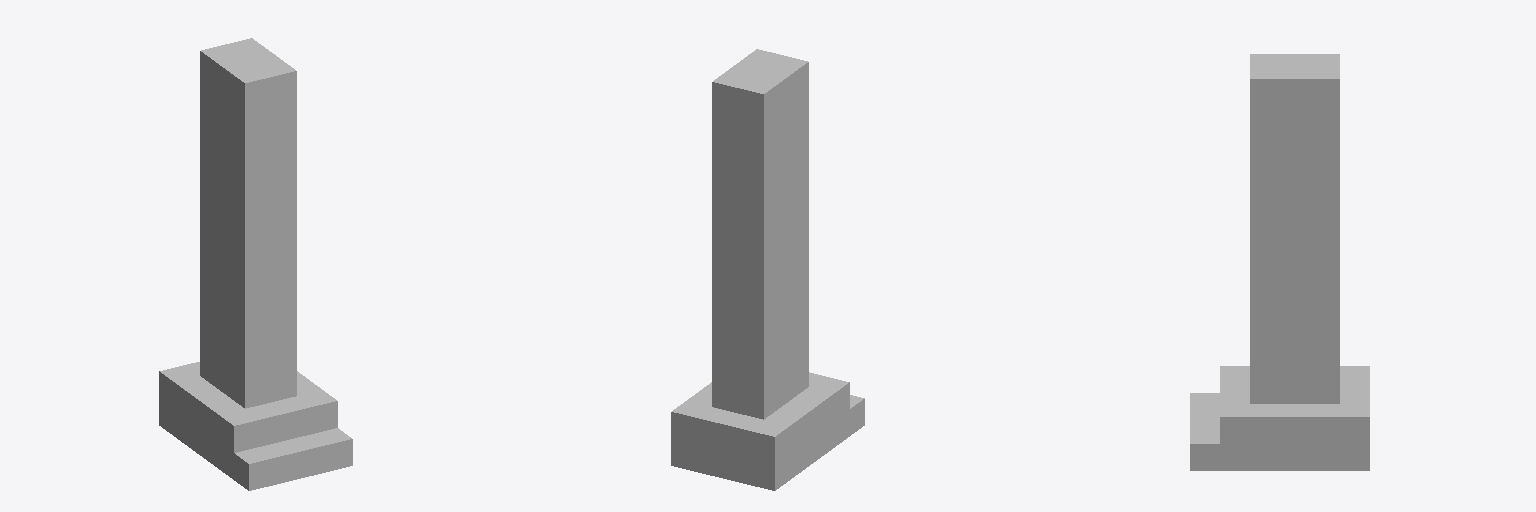
File: Leg.obj
The picture shows the model from 3 angles: view 1: azimuth 30°, elevation 25°; view 2: azimuth 150°, elevation 25°; view 3: azimuth 270°, elevation 25°; orthographic projection.
Parts seen in each view (by area): view 1: object 1; view 2: object 1; view 3: object 1.
Boxes of the visible parts, x1=… form: object 1: x1=159, y1=38, x2=352, y2=490; object 1: x1=671, y1=49, x2=864, y2=490; object 1: x1=1190, y1=54, x2=1369, y2=470.
Bounding box in the file's own units: 0.4 × 1.4 × 0.6.